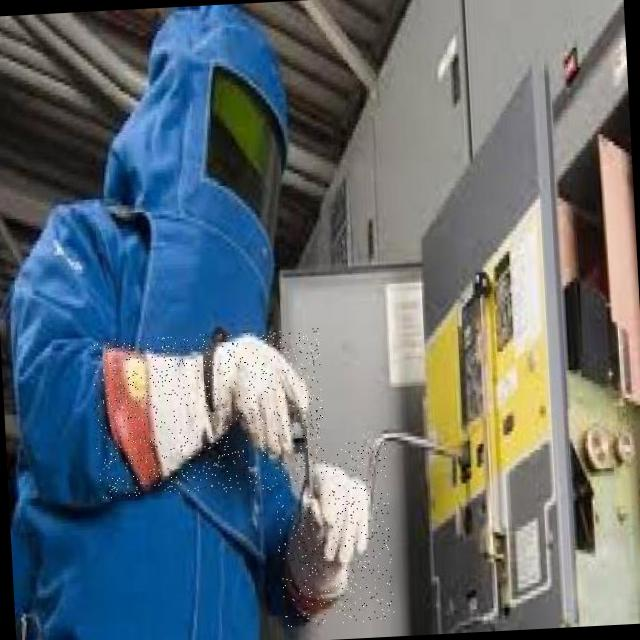forklift: (92, 324, 315, 484), (276, 458, 374, 614)
